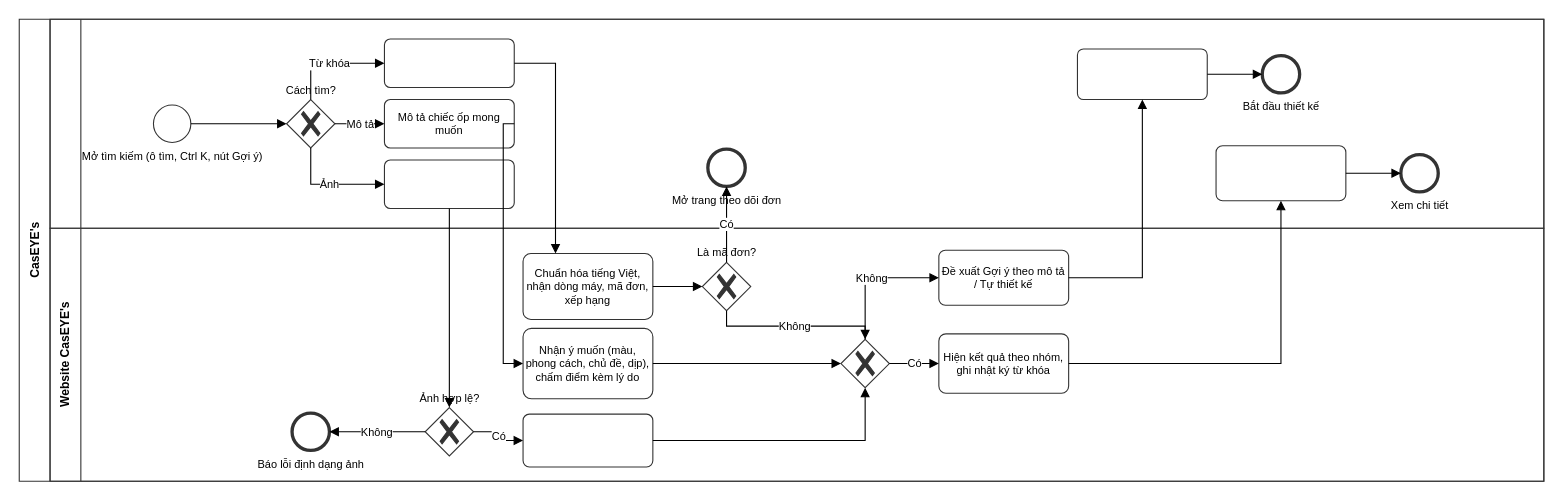
Image size: 1563x501. Some labels were removed from this diagram. Each missing label, with the box of its shape:
Chọn mẫu, ốp có sẵn hoặc trang hỗ trợ: (1215, 145, 1346, 201)
Có kết quả?: (840, 338, 889, 388)
Gõ từ khóa / dán mã đơn: (383, 38, 514, 87)
Khách hàng: (49, 18, 1544, 228)
Lấy bảng màu chủ đạo, so màu (ΔE): (522, 413, 653, 467)
Tải ảnh tham khảo: (383, 159, 514, 208)
Vào Design Studio cùng ý tưởng: (1076, 48, 1207, 100)
